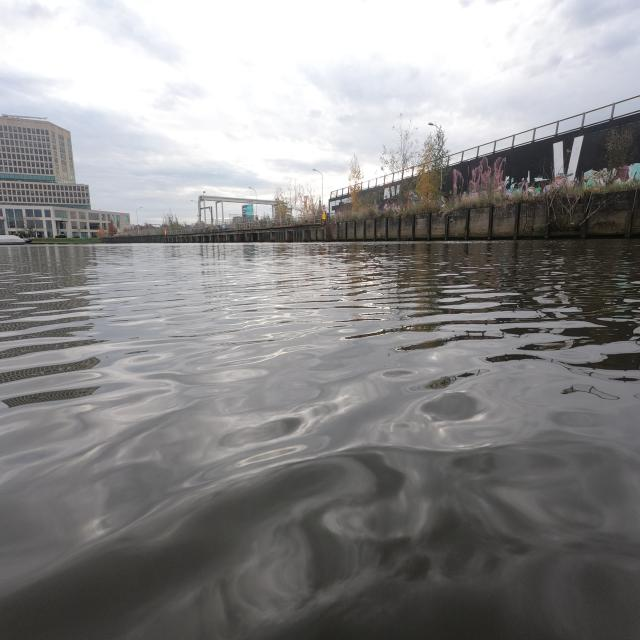boat: (0, 235, 25, 245)
wall: (187, 188, 640, 243)
water: (0, 239, 640, 640)
